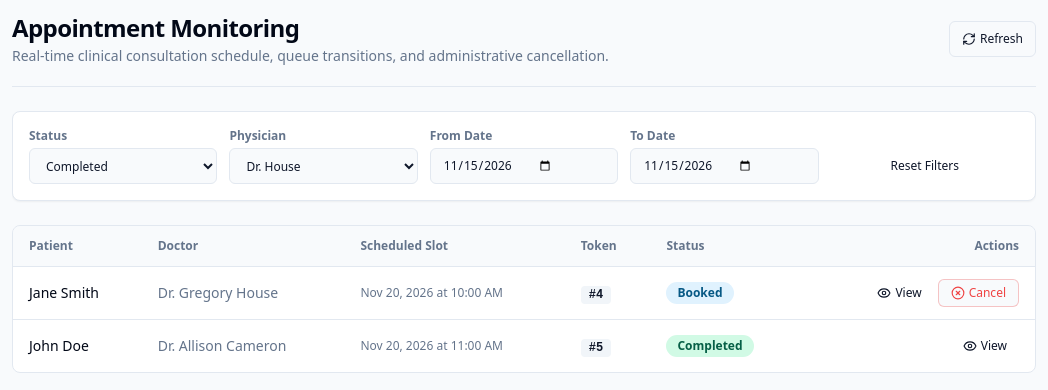
Test: AppointmentsPage Monitoring › clears filter states and resets query when Reset Filters button is clicked
Click the button "Reset Filters".
click(925, 166)  # box [831,148,1019,184]
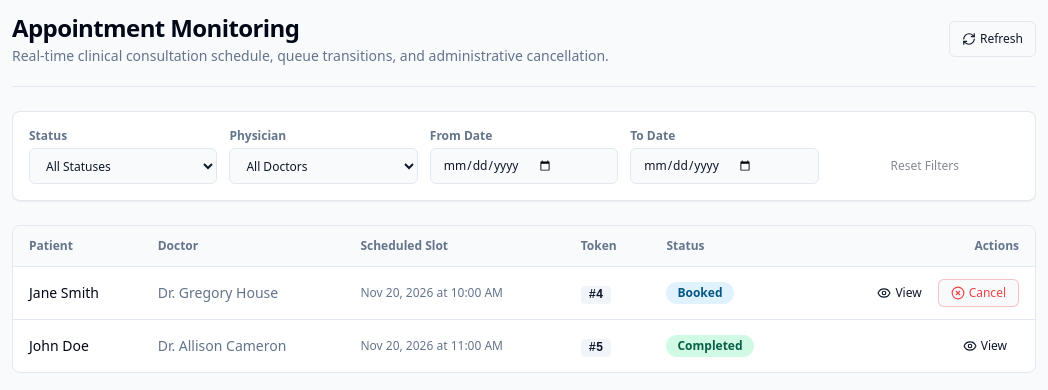
expect the dropdown named "Filter by appointment status" shows "All Statuses": met, box [29,148,217,184]
expect the dropdown named "Filter by physician" shows "All Doctors": met, box [229,148,418,184]
expect the date field named "Filter from date" is empty: met, box [430,148,618,184]
